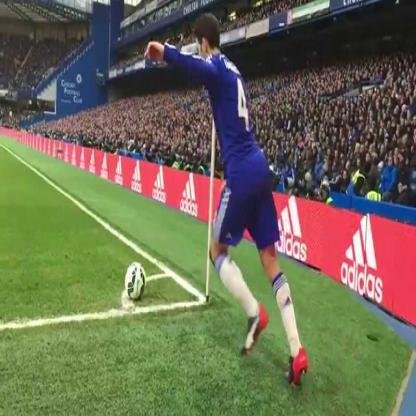corner kick: (100, 6, 319, 402)
